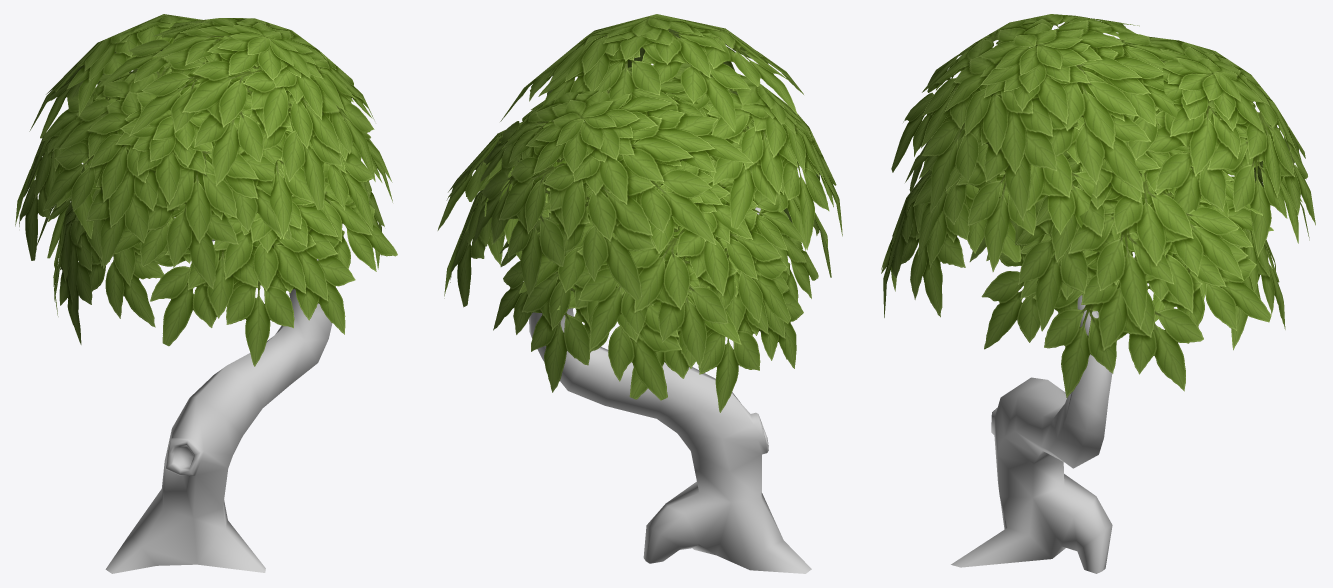
File: Environment_Mesh_Tree3.FBX
3 views of the same model, side by side, from view 1: azimuth 30°, elevation 25°; view 2: azimuth 150°, elevation 25°; view 3: azimuth 270°, elevation 25° (orthographic). The views are drawn at different scales.
Visible parts, largest first — view 1: Tree2; view 2: Tree2; view 3: Tree2.
Part boxes in pixels (<box>): Tree2: <box>15,14,397,573</box>; Tree2: <box>437,14,842,573</box>; Tree2: <box>881,14,1315,573</box>.
Size of the model in its own units: 756 by 1043 by 771.
